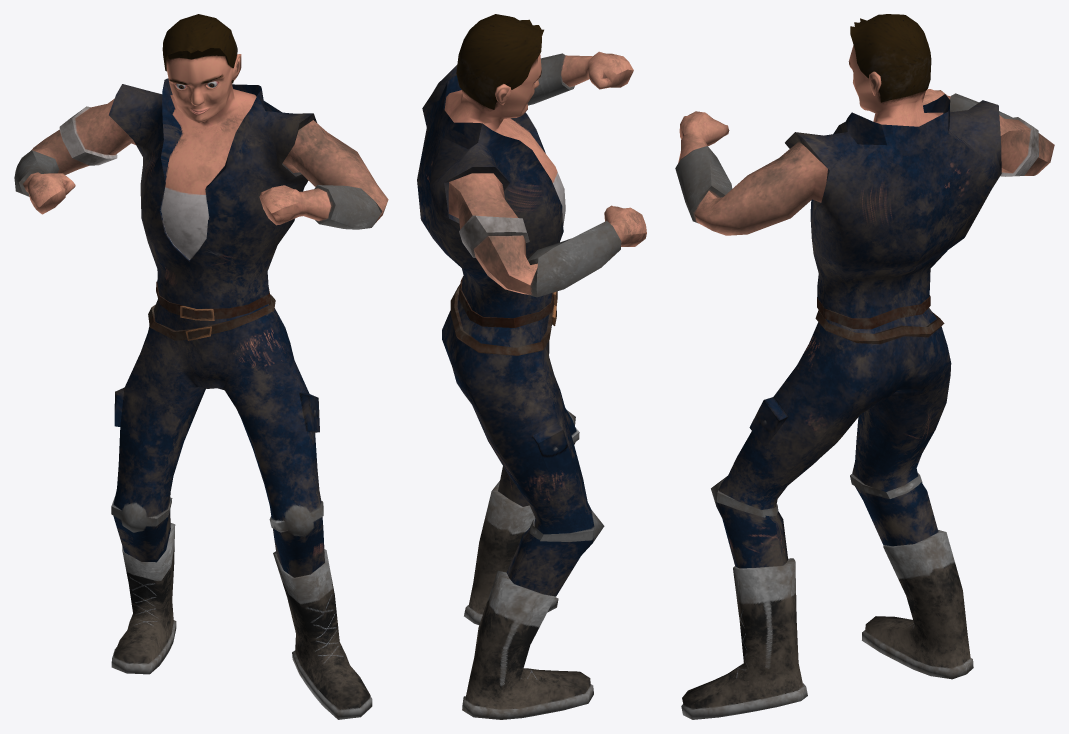
File: Anim_especial_jugador.0018.obj
The picture shows the model from 3 angles, left to right: view 1: azimuth 30°, elevation 25°; view 2: azimuth 150°, elevation 25°; view 3: azimuth 270°, elevation 25°; orthographic projection. The views are drawn at different scales.
Parts seen in each view (by area): view 1: polySurface1; view 2: polySurface1; view 3: polySurface1.
Part boxes in pixels (left/top/right/bottom): polySurface1: left=14, top=14, right=388, bottom=719; polySurface1: left=417, top=14, right=646, bottom=719; polySurface1: left=675, top=14, right=1054, bottom=719.
Size of the model in its own units: 3.86 by 9.28 by 4.78.
